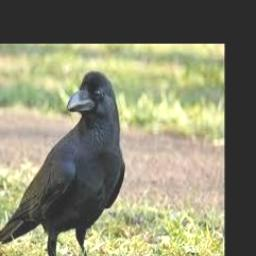Crow: (0, 70, 124, 256)
